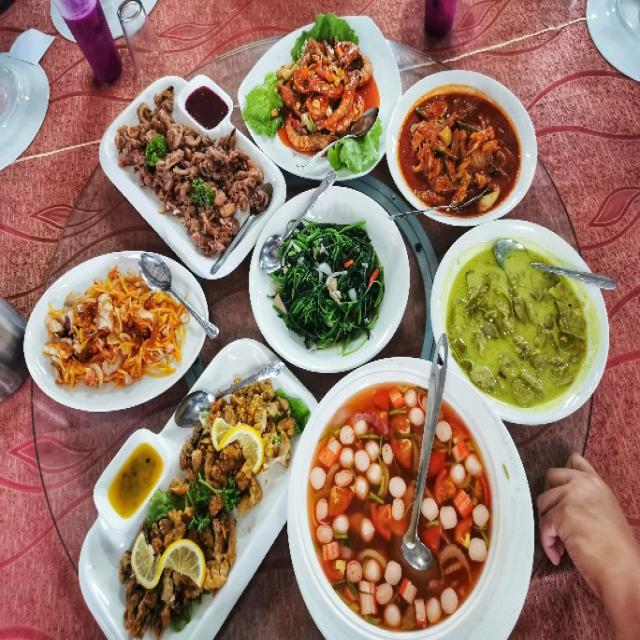muc nuong: (114, 70, 272, 256)
rau muong xao toi: (271, 200, 397, 355)
tom xao chua ngot: (253, 26, 394, 166)
